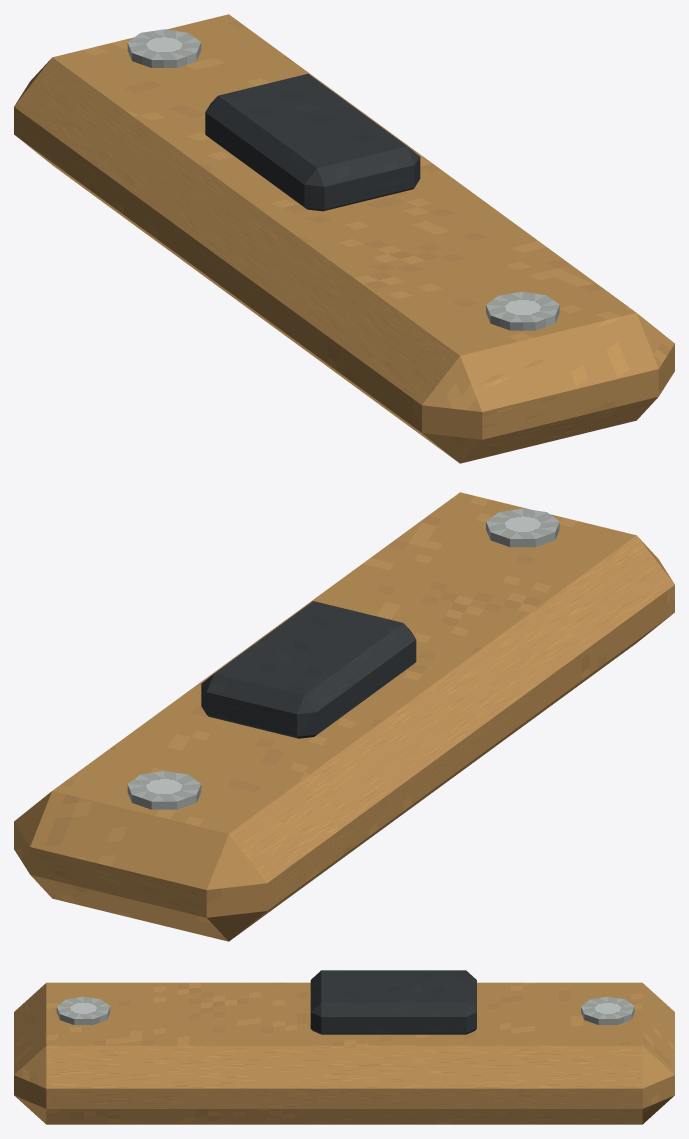
File: boxcutter.glb
The picture shows the model from 3 angles, top to bottom: view 1: azimuth 30°, elevation 25°; view 2: azimuth 150°, elevation 25°; view 3: azimuth 270°, elevation 25°; orthographic projection. The views are drawn at different scales.
Visible parts, largest first — view 1: block_closed folding tool case, block_retract slider, block_pivot (×2); view 2: block_closed folding tool case, block_retract slider, block_pivot (×2); view 3: block_closed folding tool case, block_retract slider, block_pivot (×2).
Part boxes in pixels (<box>): block_closed folding tool case: <box>14,14,674,463</box>; block_retract slider: <box>205,73,420,211</box>; block_pivot (×2): <box>127,29,559,330</box>; block_closed folding tool case: <box>14,492,674,941</box>; block_retract slider: <box>201,601,416,738</box>; block_pivot (×2): <box>127,508,559,809</box>; block_closed folding tool case: <box>14,982,674,1124</box>; block_retract slider: <box>310,970,476,1034</box>; block_pivot (×2): <box>56,996,634,1024</box>.
Size of the model in its own units: 0.0388 by 0.0215 by 0.12.
1 material, 1 textured.
